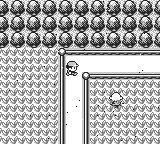captura: (0, 49, 60, 143), (89, 80, 159, 143)
main: (66, 62, 79, 75)
no-caminable: (0, 1, 159, 48)
npc: (109, 93, 123, 105)
